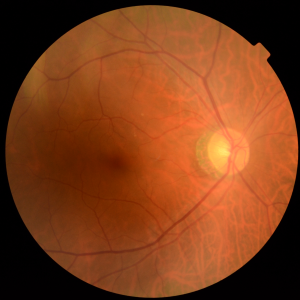healthy_eye: (34, 87, 270, 213)
